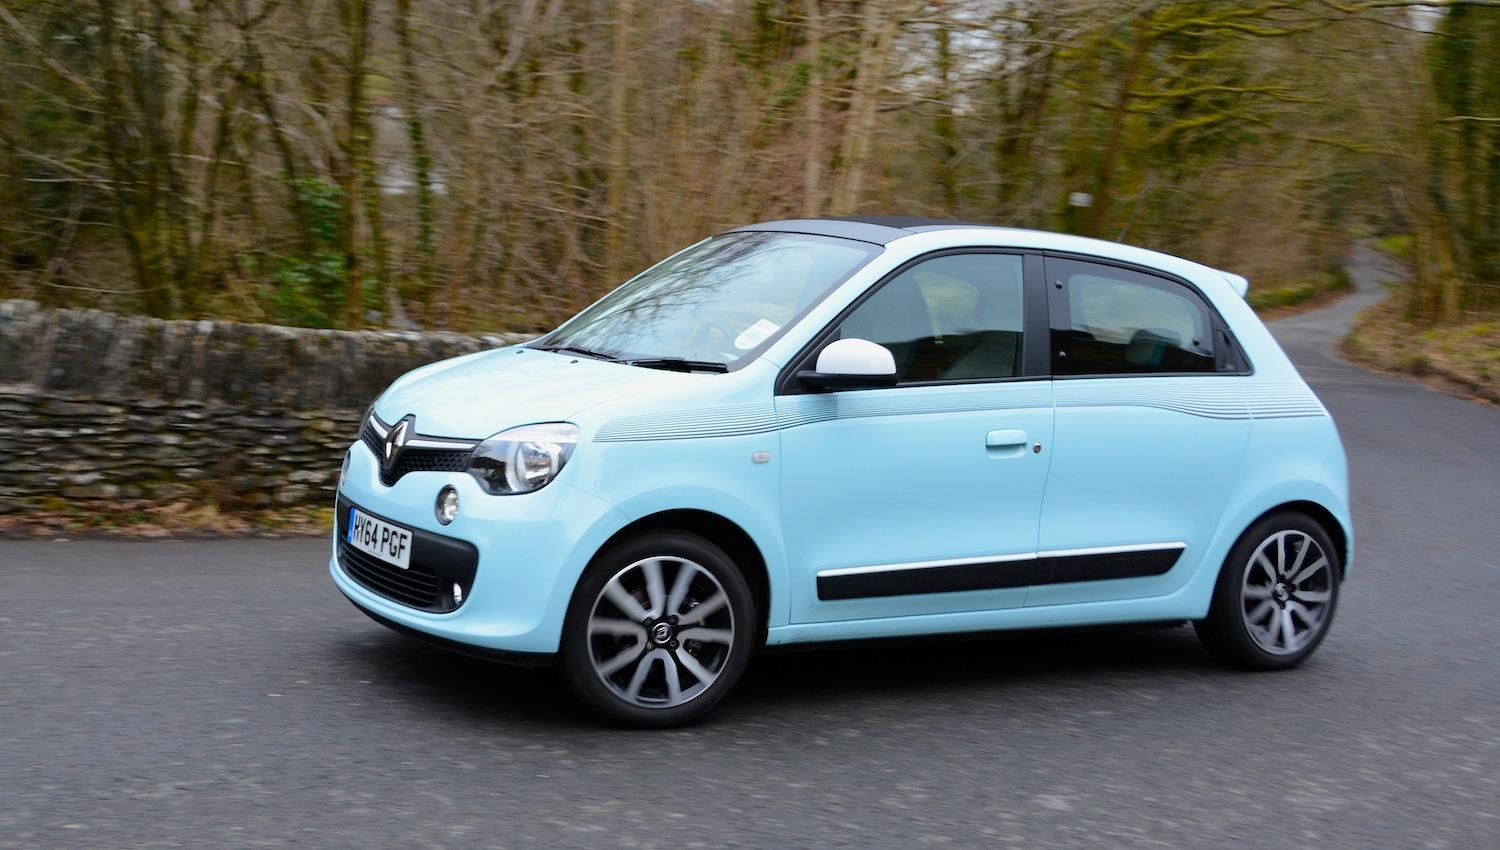Renault: (362, 409, 422, 484)
